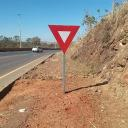preferencia: (46, 24, 80, 56)
